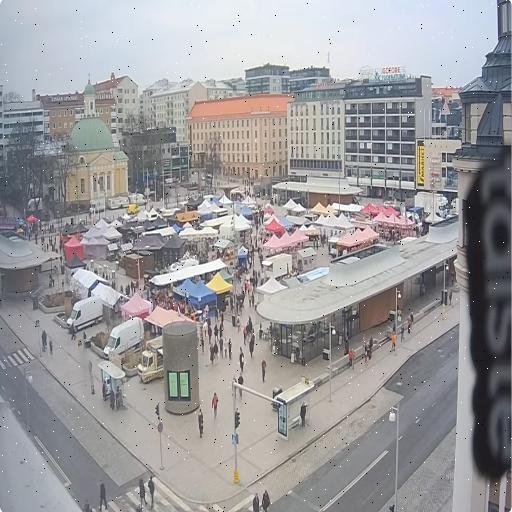Delivery: (104, 318, 144, 358), (67, 297, 102, 331), (138, 336, 163, 383)
